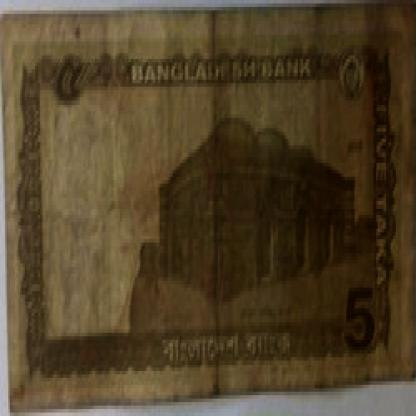Five Taka: (335, 271, 391, 368), (45, 45, 96, 142)
